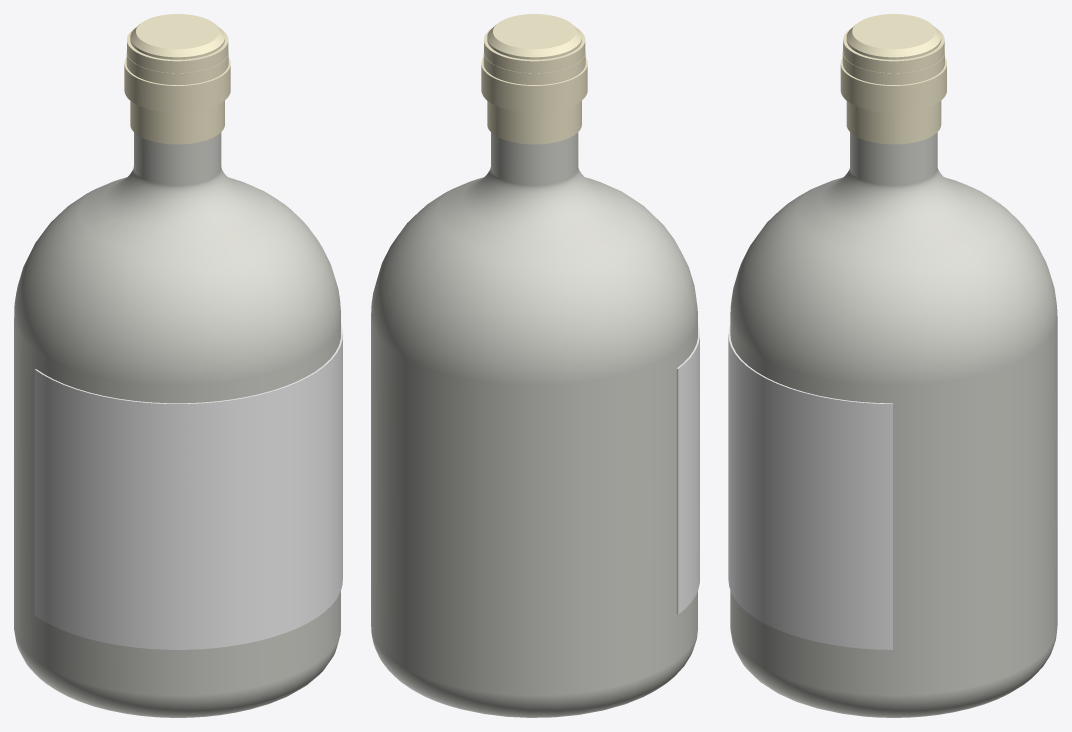
The model's file is 890_sakebottle.glb.
3 views of the same model, side by side, from view 1: azimuth 30°, elevation 25°; view 2: azimuth 150°, elevation 25°; view 3: azimuth 270°, elevation 25° (orthographic).
Parts seen in each view (by area): view 1: Body, label, huta; view 2: Body, huta, label; view 3: Body, label, huta.
Boxes of the visible parts, left/top/right/bottom form: Body: left=14, top=132, right=340, bottom=717; label: left=34, top=324, right=342, bottom=649; huta: left=124, top=14, right=230, bottom=144; Body: left=371, top=132, right=697, bottom=717; huta: left=481, top=14, right=587, bottom=144; label: left=676, top=324, right=699, bottom=614; Body: left=730, top=132, right=1057, bottom=717; label: left=728, top=325, right=892, bottom=649; huta: left=840, top=14, right=946, bottom=144.
Size of the model in its own units: 0.0924 by 0.1942 by 0.0919.
